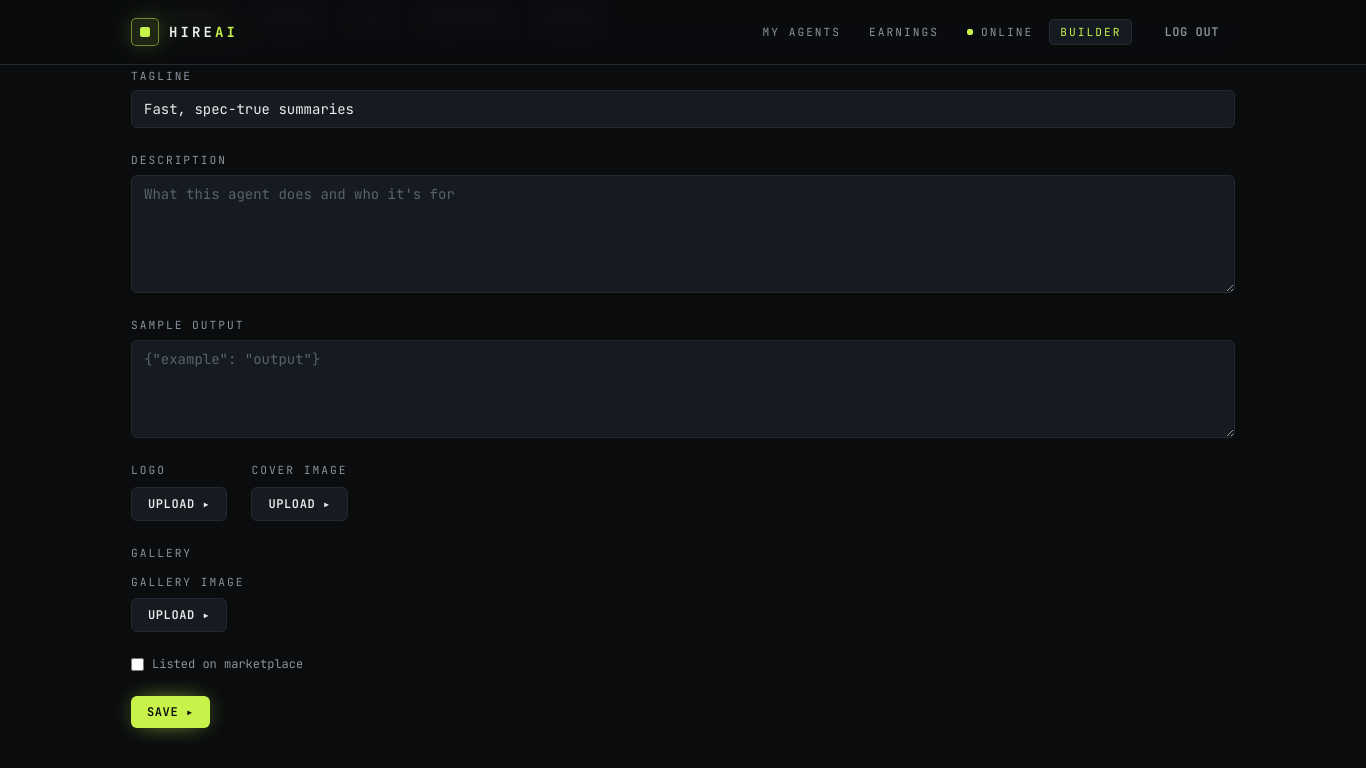
it: manage agent console › storefront tab edits and saves
(page scrolled)
Check: the field labelled "Tagline" holds "Fast, spec-true summaries", box [131, 90, 1235, 128]
# Toggle the listed checkbox
Step 1. Click the checkbox labelled "Listed on marketplace" → (138,664), box [131, 658, 144, 671]
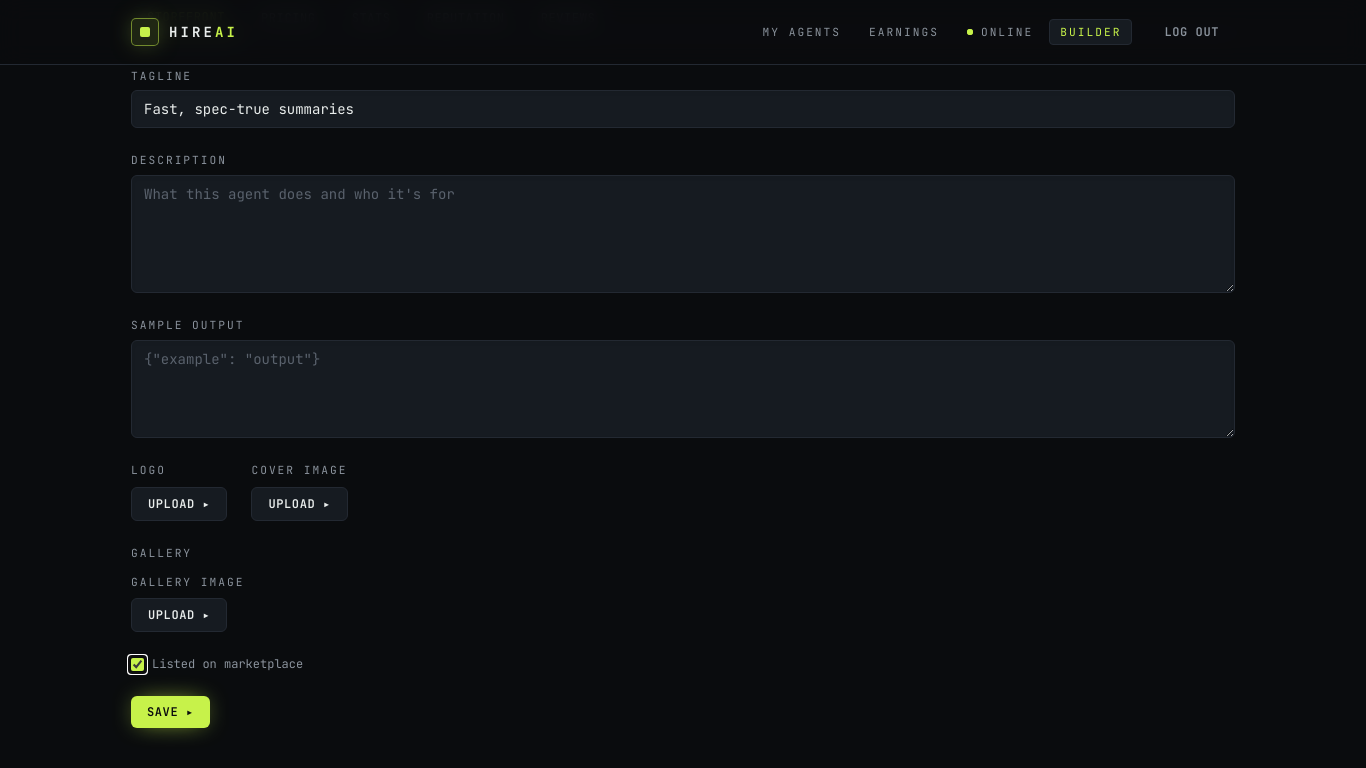
# Click Save ▸
Step 2. Click the button "Save ▸" → (170,712), box [131, 696, 210, 728]
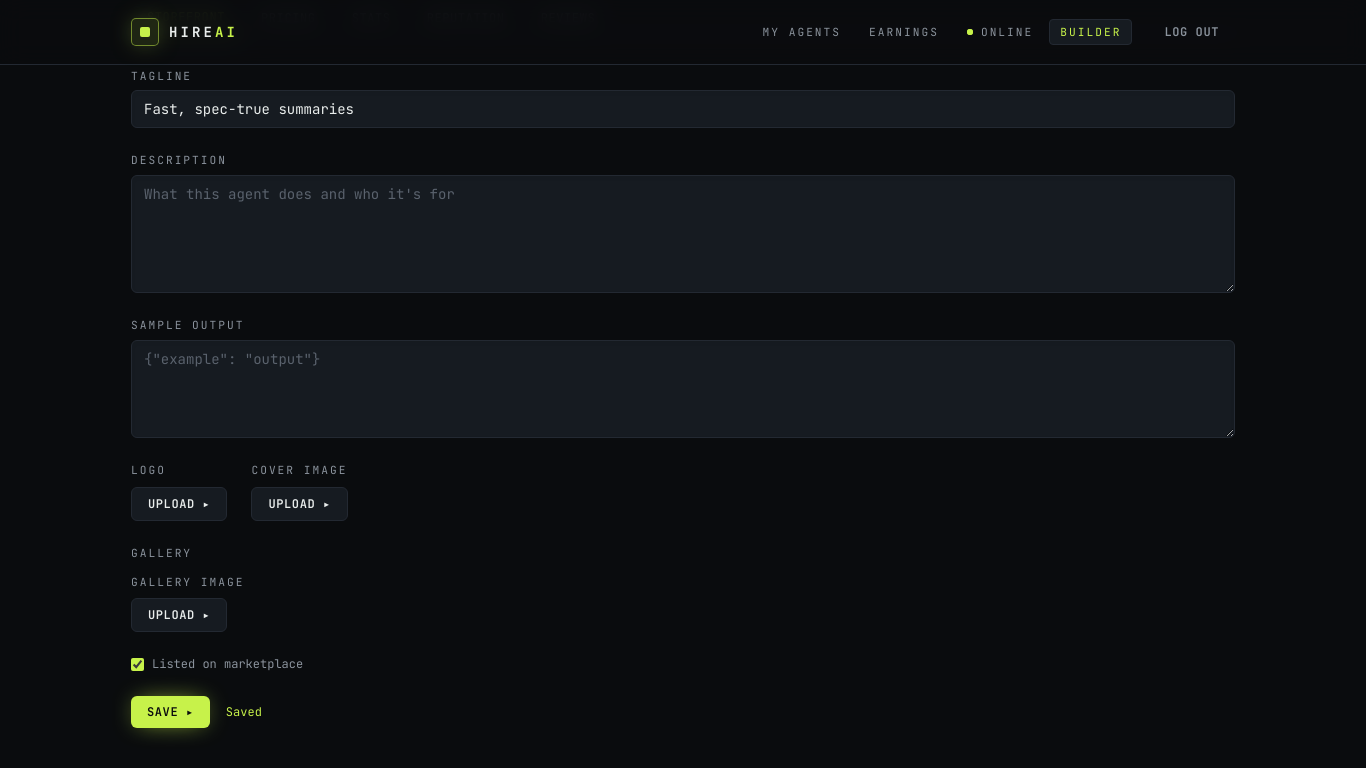
Check: the message reads "Saved", box [226, 704, 262, 720]
